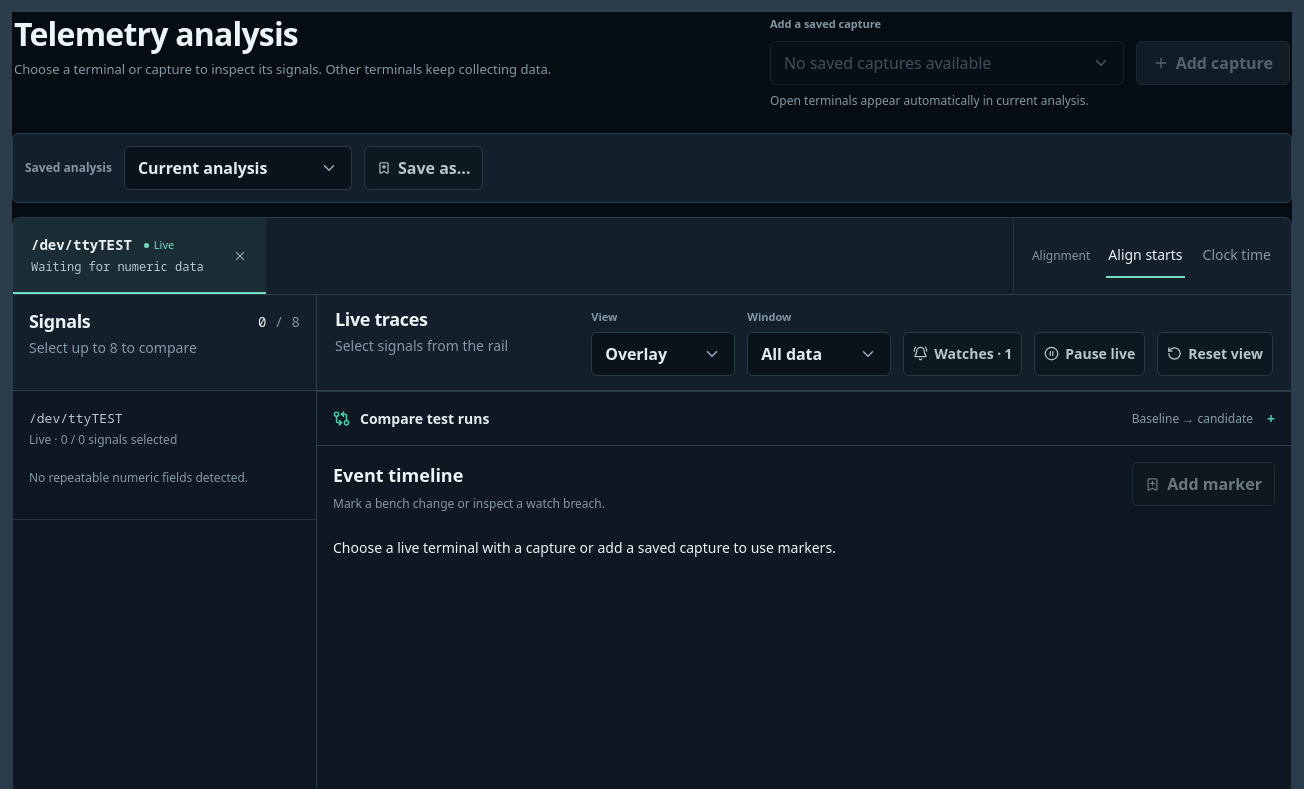
Scenario: desktop watch reattachment › keeps a rejected watch removal visible across healthy snapshots until a successful retry
This screenshot has width=1304, height=789.
Click the button "Watches · 1": [963, 354] box [903,332,1022,376]
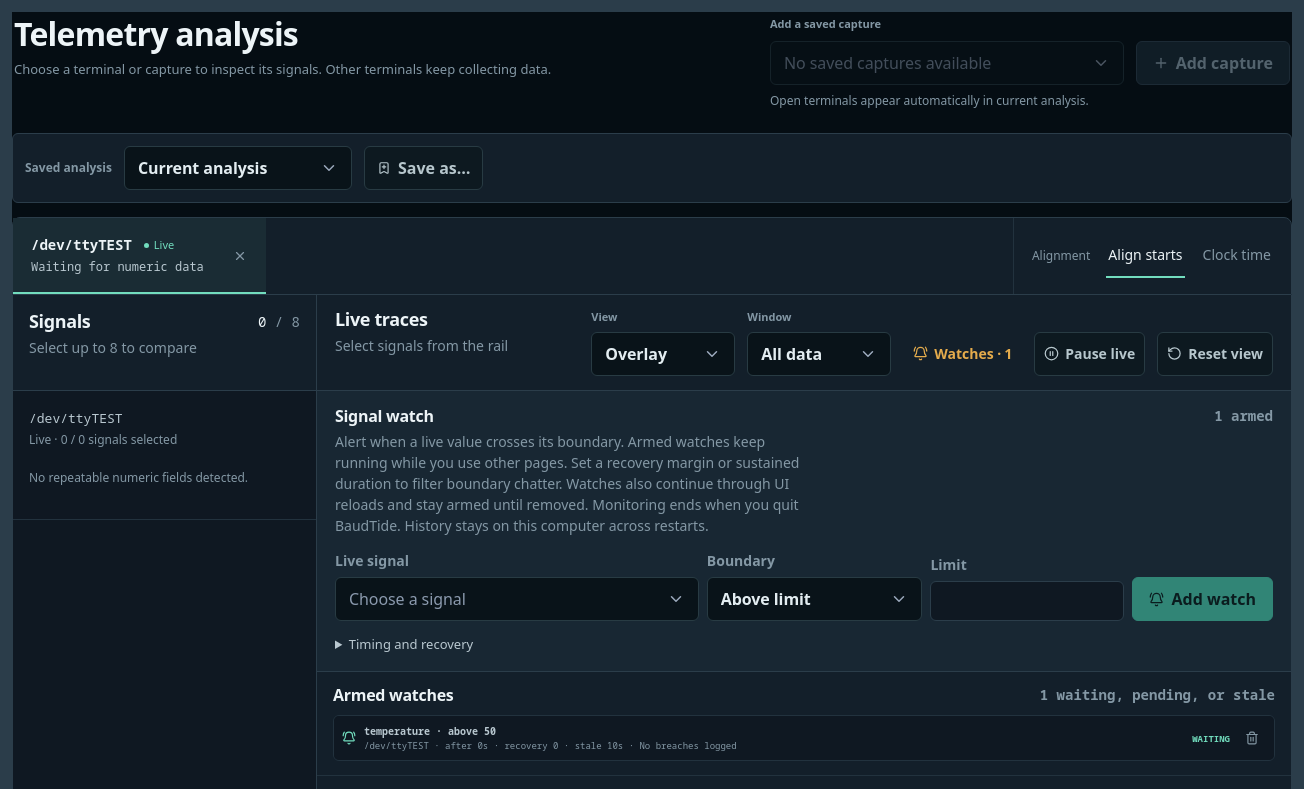
Click the button named "Remove watch for temperature": [1252, 738] box [1238,724,1266,752]
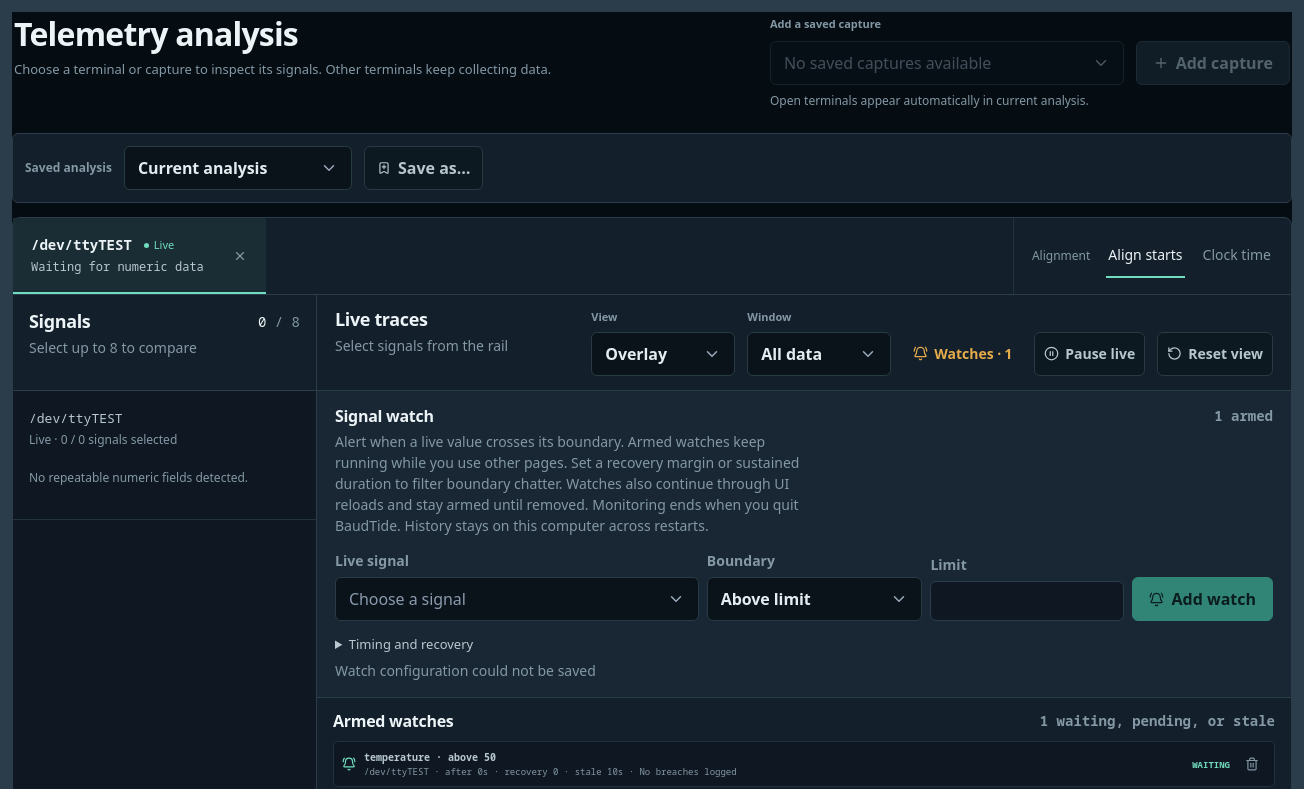
Expected: the button named "Remove watch for temperature" is shown
Expected: the text "Watch configuration could not be saved" is shown, [335,661,596,680]
Click the button named "Remove watch for temperature": [1252, 764] box [1238,750,1266,778]
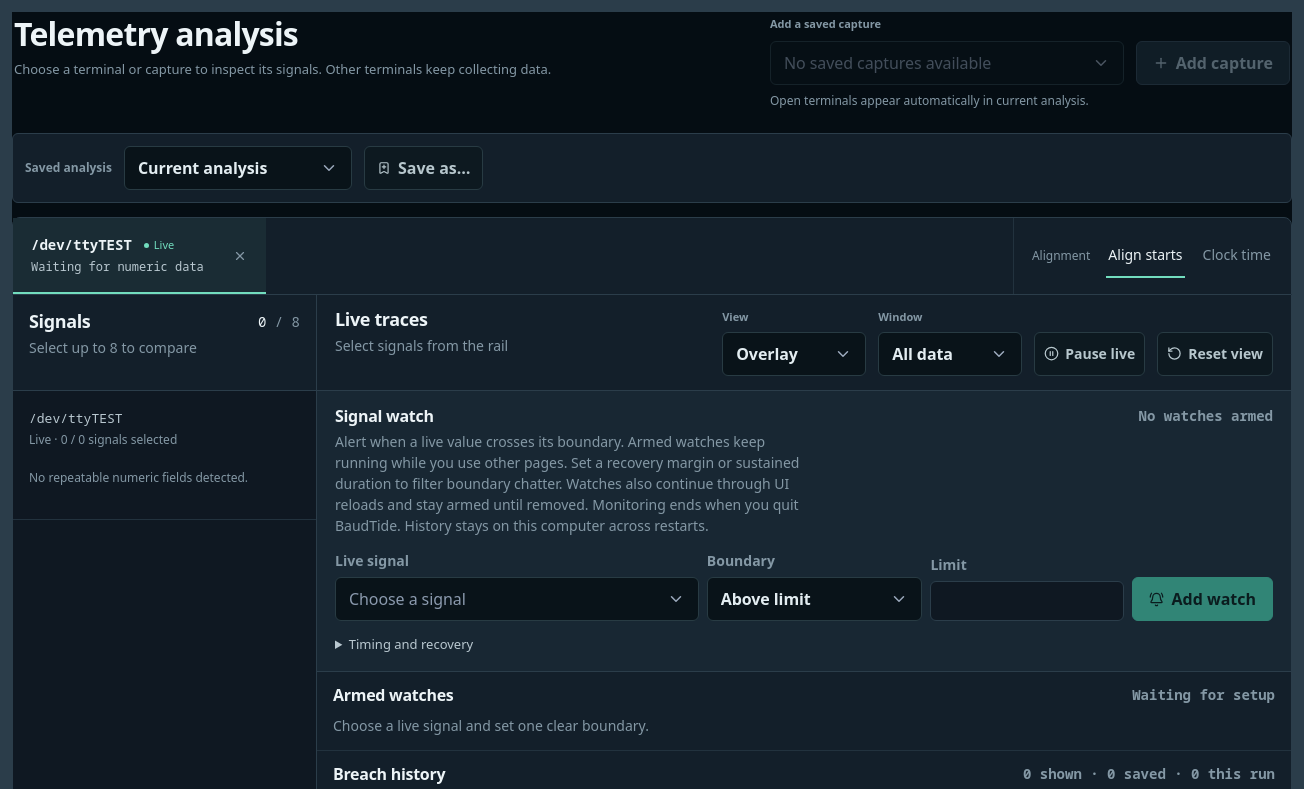
Expected: the text "Watch configuration could not be saved" is gone
